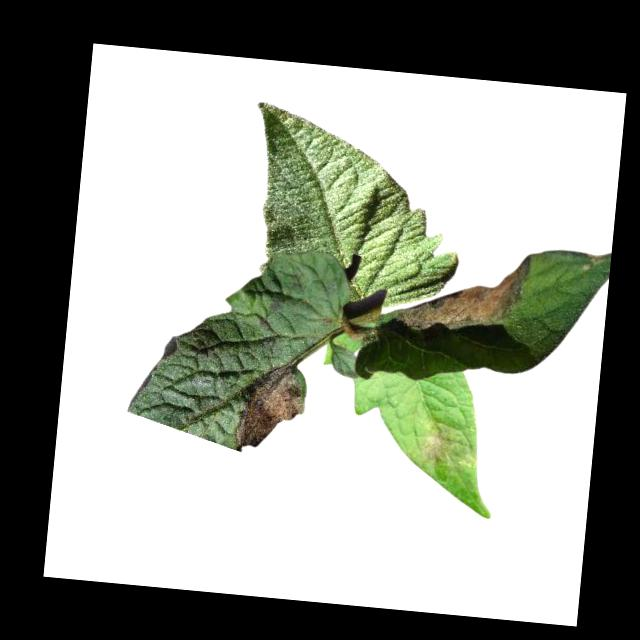Late_blight: (396, 244, 535, 340), (232, 358, 311, 458), (419, 420, 456, 468), (586, 252, 608, 268)
healthy: (239, 100, 471, 316)
